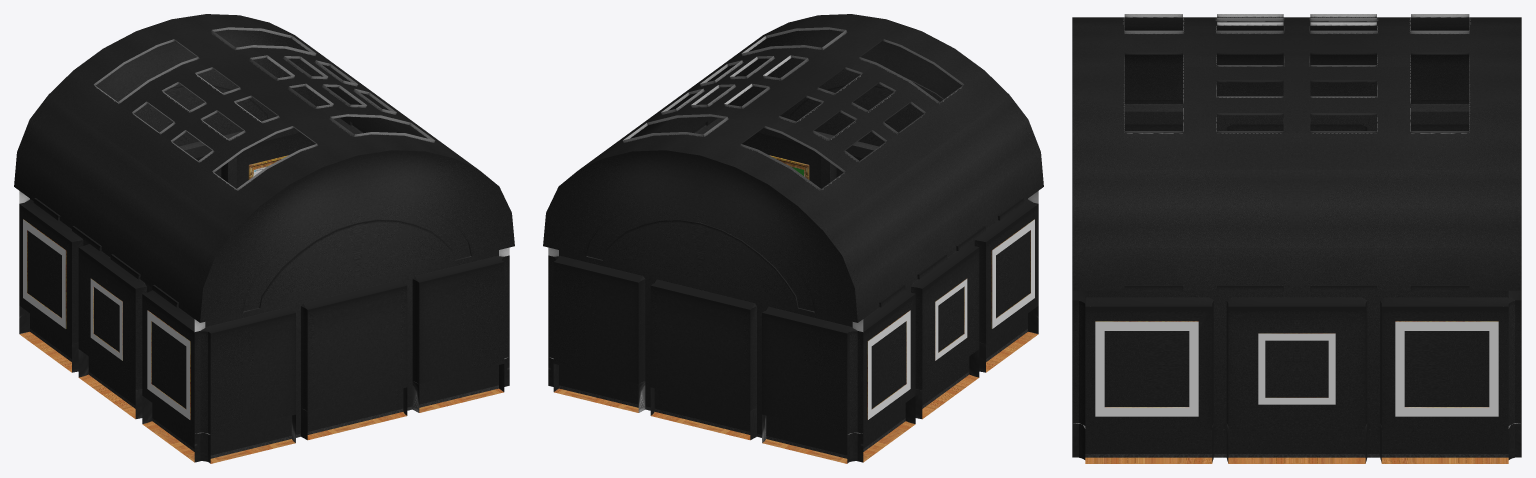
The model's file is galeria.glb.
The picture shows the model from 3 angles, left to right: view 1: azimuth 30°, elevation 25°; view 2: azimuth 150°, elevation 25°; view 3: azimuth 270°, elevation 25°; orthographic projection. The views are drawn at different scales.
Visible parts, largest first — view 1: Cube, Cube.005; view 2: Cube, Cube.005; view 3: Cube, Cube.005.
Part boxes in pixels (bbox=[...]): Cube: bbox=[14, 14, 514, 463]; Cube.005: bbox=[23, 155, 288, 419]; Cube: bbox=[543, 14, 1043, 463]; Cube.005: bbox=[769, 155, 1034, 419]; Cube: bbox=[1072, 14, 1521, 463]; Cube.005: bbox=[1095, 321, 1498, 416].
Bounding box in the file's own units: 2.43 × 1.99 × 2.46.
Materials: 19 (17 with a texture image).
